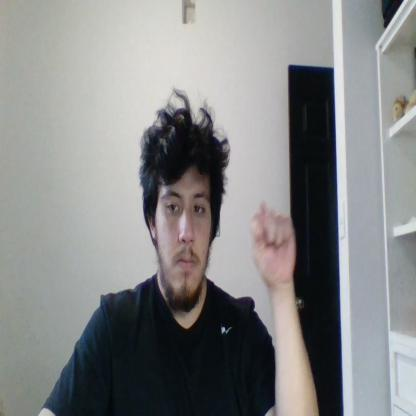T: (252, 202, 296, 282)
